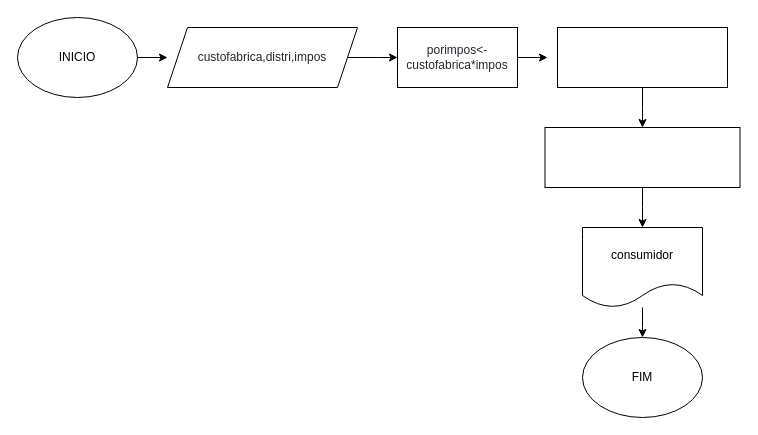
Image size: 758x435. Some labels were removed from this diagram. Here are the shapes that lost their labels. From the top down, the centre of each, then its label:
At (x=642, y=57): "pordistri<-(custofabrica+porimpos)*distri".
At (x=642, y=157): "consumidor<-custofabrica+porimpos+pordistri".
